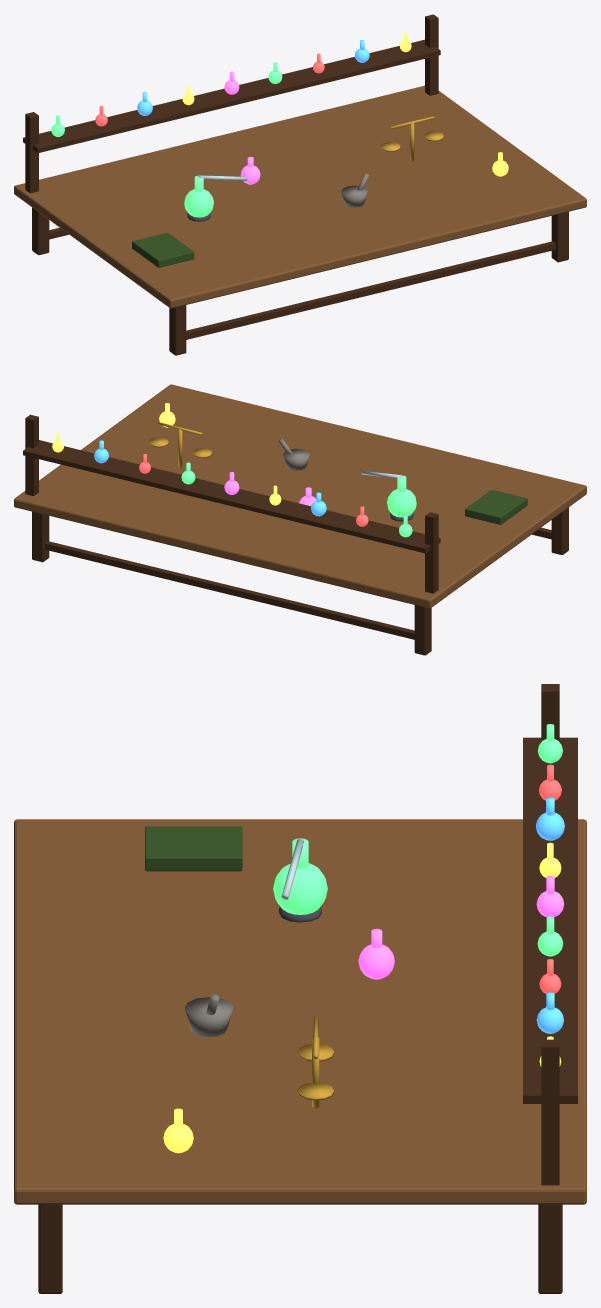
File: alchemists_bench.glb
The picture shows the model from 3 angles, top to bottom: view 1: azimuth 30°, elevation 25°; view 2: azimuth 150°, elevation 25°; view 3: azimuth 270°, elevation 25°; orthographic projection. The views are drawn at different scales.
Parts seen in each view (by area): view 1: alchemists_bench; view 2: alchemists_bench; view 3: alchemists_bench.
Boxes of the visible parts, <box> form: alchemists_bench: <box>14,14,586,355</box>; alchemists_bench: <box>14,384,586,655</box>; alchemists_bench: <box>14,684,586,1293</box>.
Bounding box in the file's own units: 2.88 × 0.92 × 1.88.
